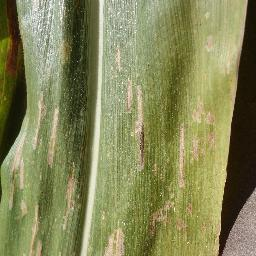Gray_Leaf_Spot: (170, 104, 223, 256), (17, 102, 68, 167), (118, 79, 149, 182), (59, 160, 87, 224), (1, 143, 29, 200), (96, 223, 138, 256), (225, 50, 245, 111), (25, 201, 46, 256), (146, 199, 173, 238), (110, 45, 130, 89), (58, 33, 77, 69), (197, 26, 221, 53), (146, 151, 163, 187), (96, 206, 108, 228)
